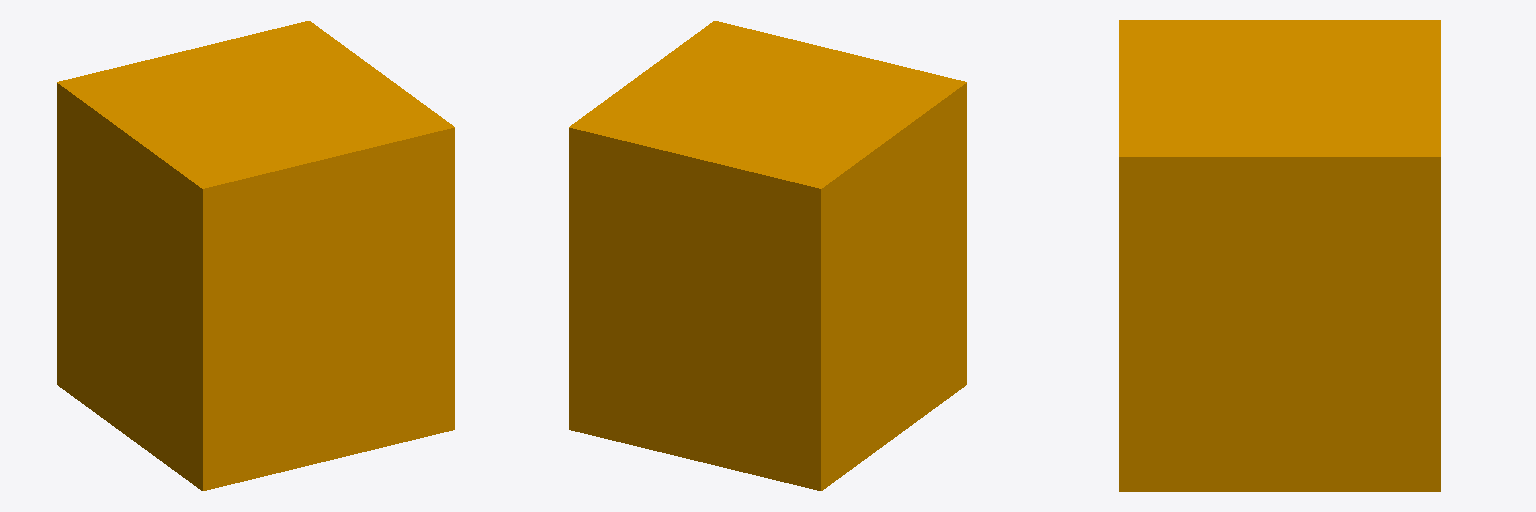
URDF robot description (object):
<?xml version="1.0"?>
<robot name="object">
  <link name="object">
    <visual>
      <origin xyz="0 0 0"/>
      <geometry>
        <box size="0.07 0.07 0.08"/>
      </geometry>
    </visual>

    <collision>
      <origin xyz="0 0 0"/>
      <geometry>
        <box size="0.07 0.07 0.08"/>
      </geometry>
    </collision>

    <inertial>
      <mass value="0.05" />
      <inertia ixx="0.0001" ixy="0.0" ixz="0.0" iyy="0.0001" iyz="0.0" izz="0.0001"/>
    </inertial>
  </link>
</robot>

--- Render facts (derived) ---
3 views of the same robot in one strip: view 1: azimuth 30°, elevation 25°; view 2: azimuth 150°, elevation 25°; view 3: azimuth 270°, elevation 25° (orthographic).
Robot: object — 1 links, 0 joints (none); root link object; default pose: every joint at zero.
Visible links, largest first — view 1: object; view 2: object; view 3: object.
Link boxes in pixels (x1,y1,x2,y2): object: (57, 21, 454, 490); object: (569, 21, 966, 490); object: (1119, 20, 1440, 491).
Bounding box of the posed robot: 0.07 × 0.07 × 0.08 m (x, y, z).
Geometry: primitives only (box / cylinder / sphere), no mesh files.